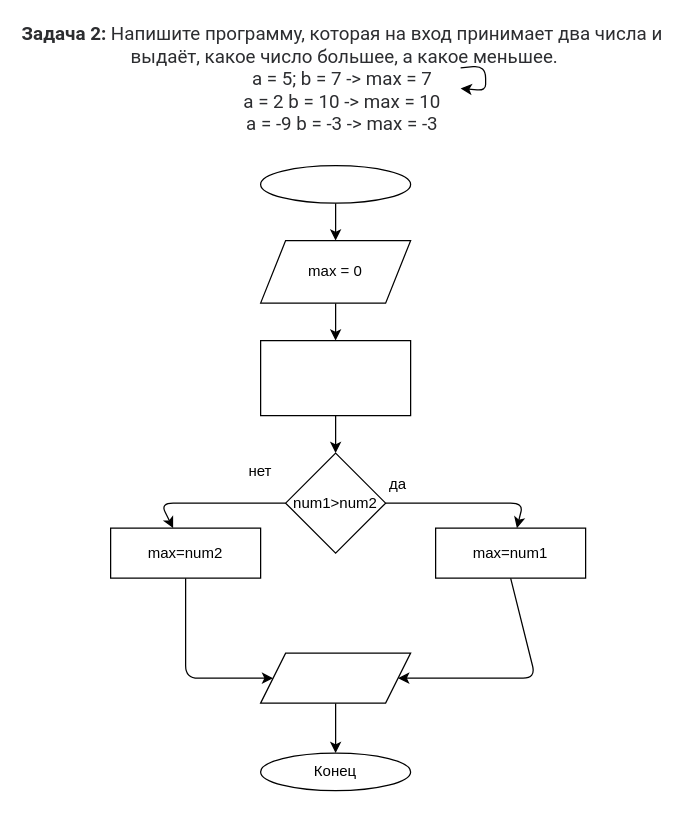
Image size: 684x813. Some labels were removed from this diagram. The centre of each missing label's shape, as x and y in pixels:
num1, num2: point 335,377
print max: point 335,677
Начало: point 335,183
